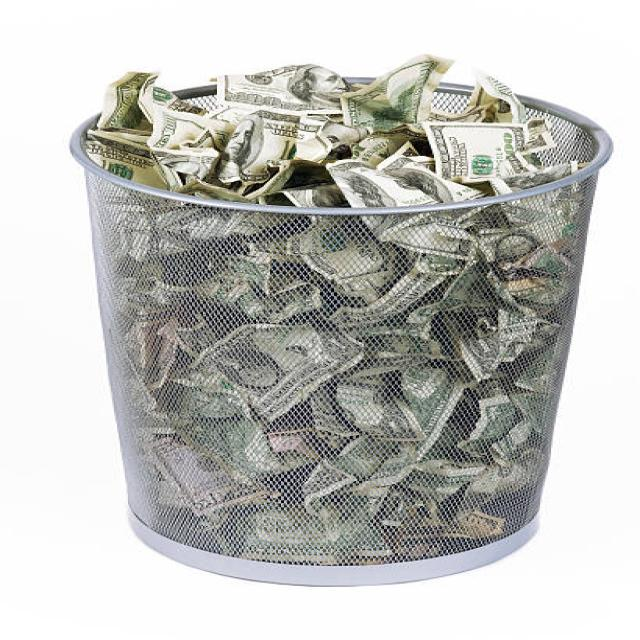paper: (66, 46, 593, 558)
